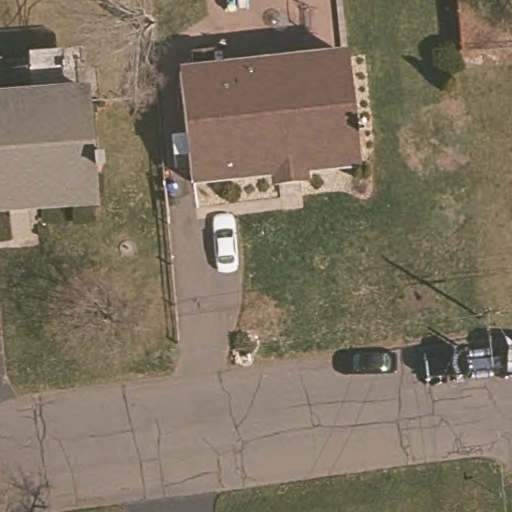DT: (473, 302, 507, 331)
